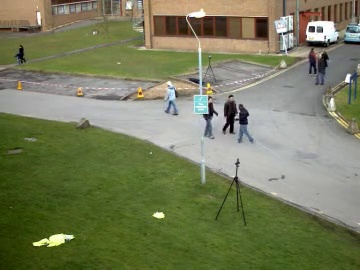person: (222, 95, 240, 134), (221, 94, 238, 135), (165, 81, 181, 115)
